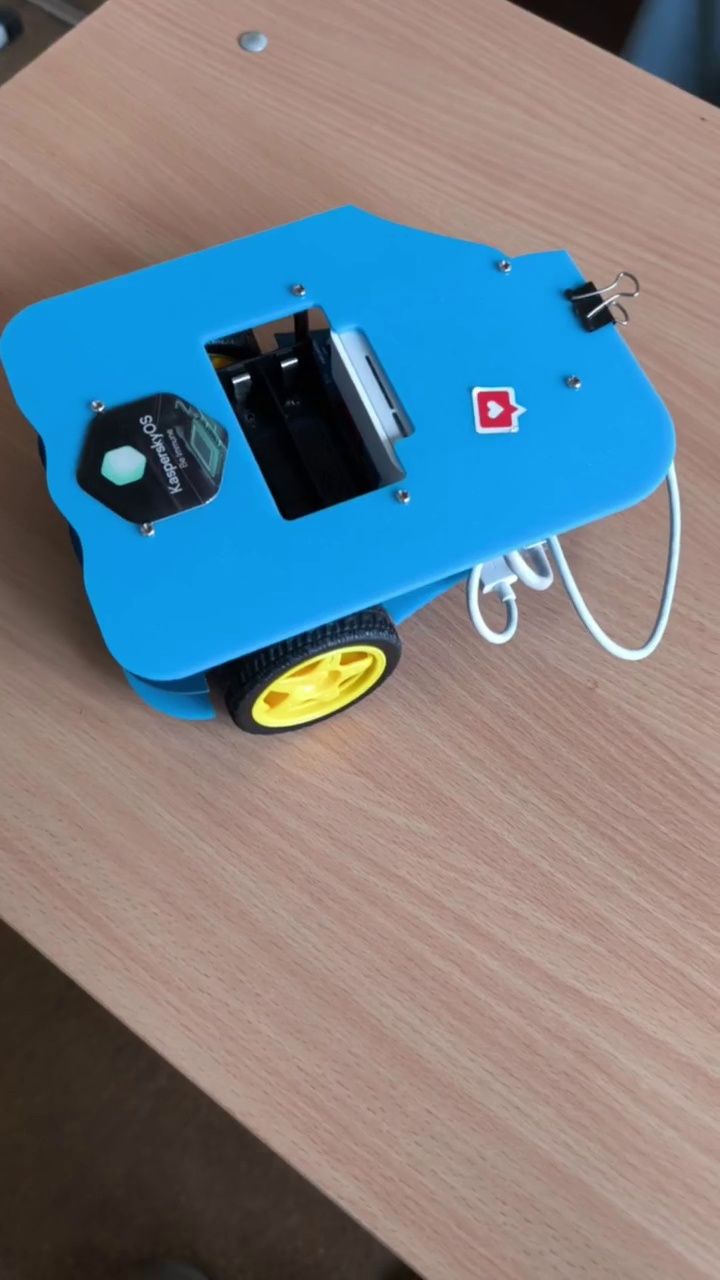robot: (1, 202, 680, 734)
